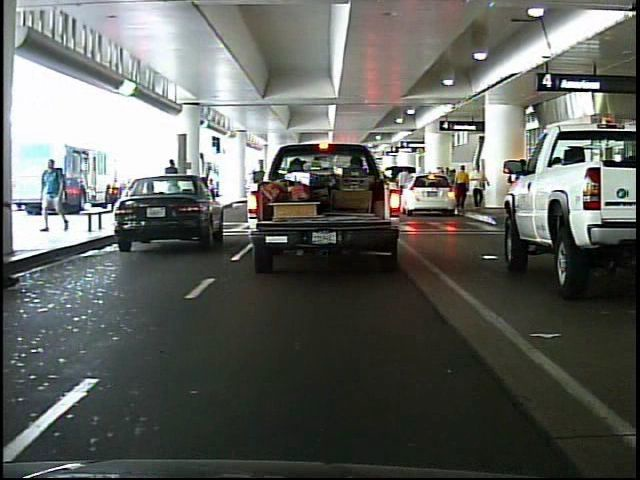person: (39, 154, 77, 235), (161, 153, 186, 216), (447, 160, 471, 220)
